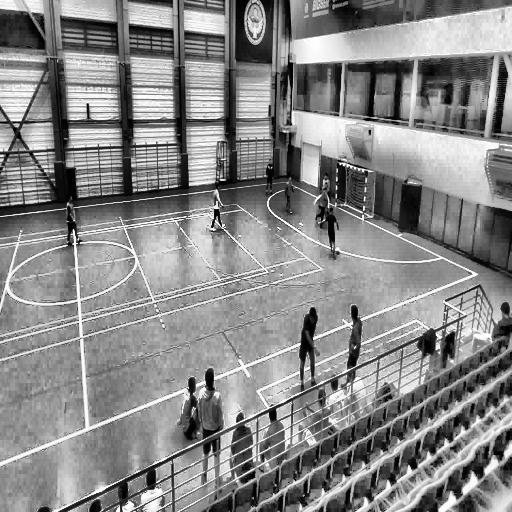ball: (335, 246, 341, 258)
player: (196, 369, 224, 487), (298, 304, 318, 390), (323, 200, 338, 256), (210, 180, 225, 232), (66, 193, 80, 248), (314, 188, 332, 230), (321, 168, 332, 204), (264, 158, 274, 195), (284, 174, 293, 214)
